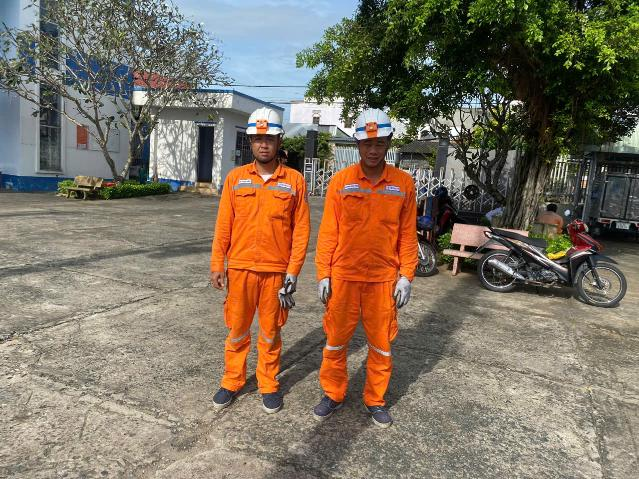gloves: (391, 273, 414, 315), (313, 275, 337, 304), (282, 273, 302, 301)
helmet: (351, 102, 395, 149), (252, 102, 292, 142)
shoes: (359, 393, 400, 432), (249, 384, 287, 415), (305, 392, 342, 420), (209, 381, 243, 410)
